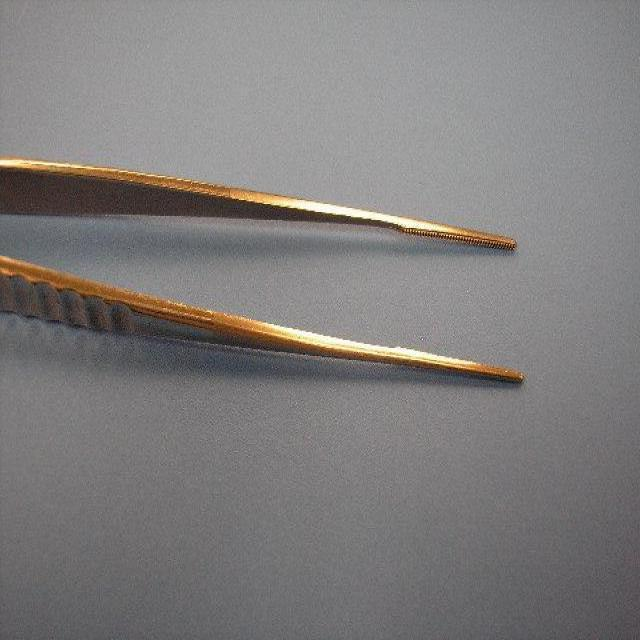Forceps: (0, 150, 528, 390)
